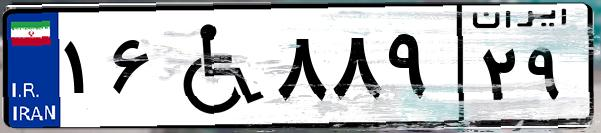1: (57, 26, 110, 100)
2: (475, 38, 525, 113)
6: (110, 28, 158, 98)
8: (270, 28, 330, 110), (330, 28, 385, 110)
9: (385, 28, 445, 110), (525, 38, 570, 115)
ژ (معلولین و جانبازان): (158, 12, 270, 120)
